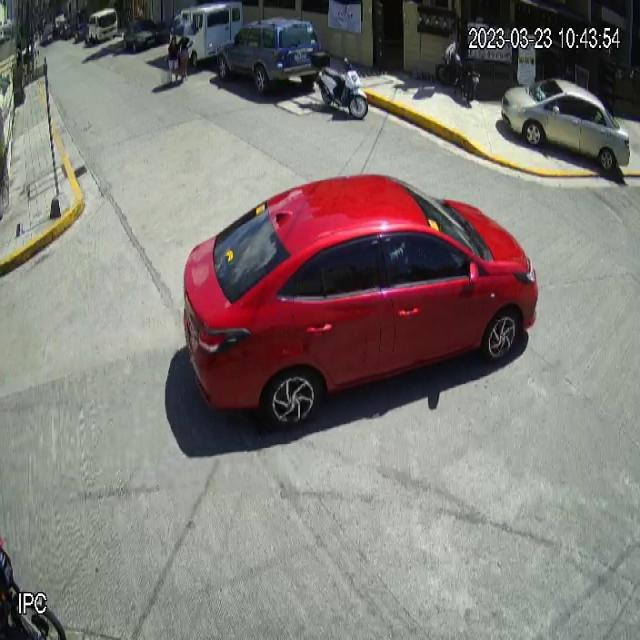Car: (180, 169, 542, 436), (501, 77, 632, 175), (216, 15, 322, 96)
Motorcycle: (308, 51, 369, 120)
Van: (169, 0, 245, 68)
